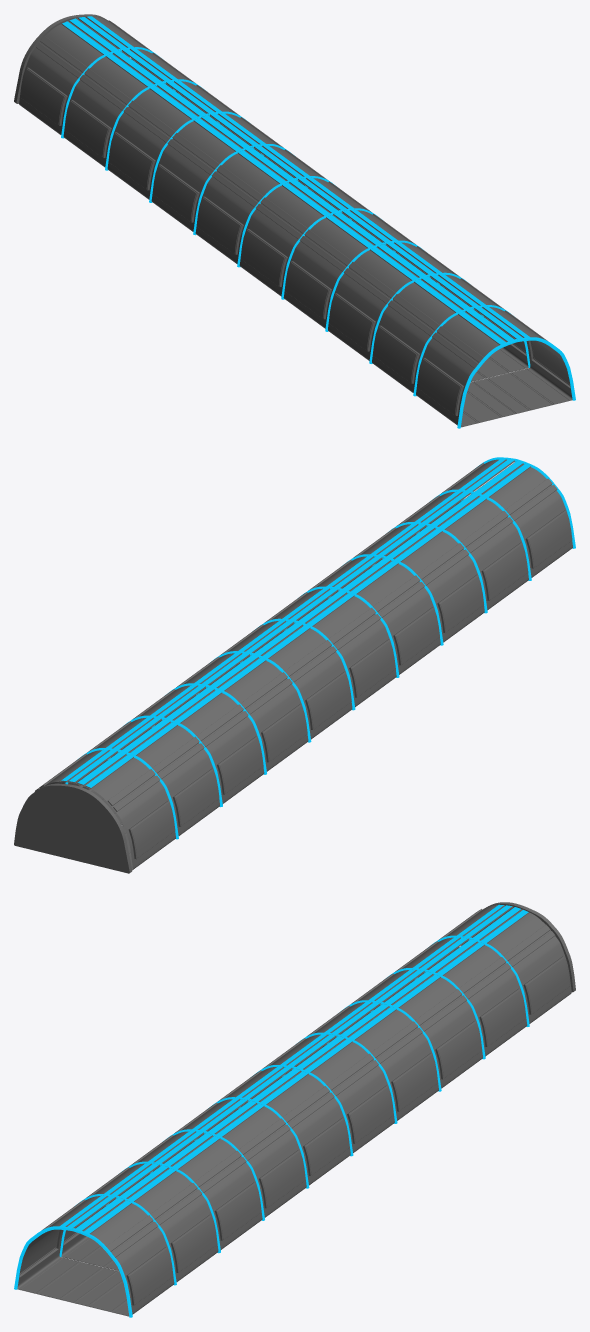
File: Sci Fi Corridor.fbx
3 renders of one model, top to bottom at view 1: azimuth 30°, elevation 25°; view 2: azimuth 150°, elevation 25°; view 3: azimuth 330°, elevation 25°, orthographic.
Visible parts, largest first — view 1: Extrude_1, Sweep_1, Door_1; view 2: Extrude_1, Door_1, Sweep_1; view 3: Extrude_1, Sweep_1, Door_1.
Boxes of the visible parts, x1,y1,x2,y2 form: Extrude_1: (19, 16, 572, 427); Sweep_1: (61, 47, 575, 428); Door_1: (14, 14, 129, 103); Extrude_1: (35, 458, 572, 869); Door_1: (14, 783, 132, 873); Sweep_1: (65, 457, 575, 839); Extrude_1: (17, 904, 571, 1316); Sweep_1: (14, 935, 529, 1317); Door_1: (461, 902, 575, 992).
Bounding box in the file's own units: 541 × 329 × 3529.
